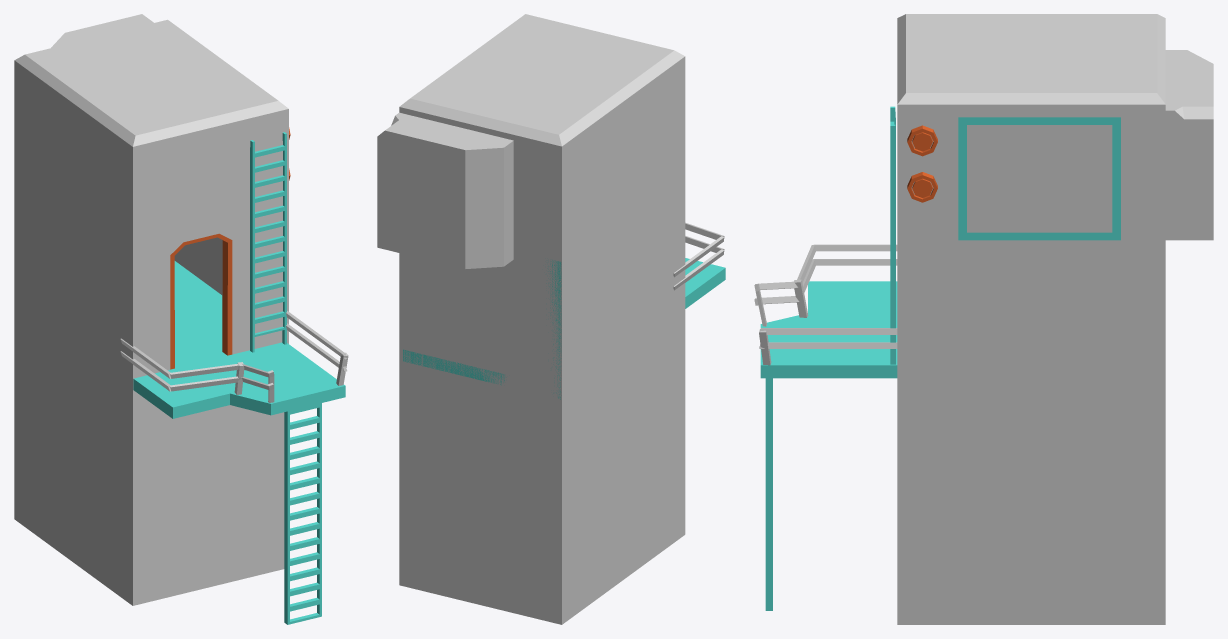
The model's file is building1.glb.
The picture shows the model from 3 angles, left to right: view 1: azimuth 30°, elevation 25°; view 2: azimuth 150°, elevation 25°; view 3: azimuth 270°, elevation 25°; orthographic projection. The views are drawn at different scales.
Parts seen in each view (by area): view 1: Cube; view 2: Cube; view 3: Cube.
Boxes of the visible parts, x1,y1,x2,y2 form: Cube: [14, 14, 348, 624]; Cube: [377, 14, 725, 624]; Cube: [754, 14, 1213, 624].
Size of the model in its own units: 3.11 by 8.48 by 6.68.
